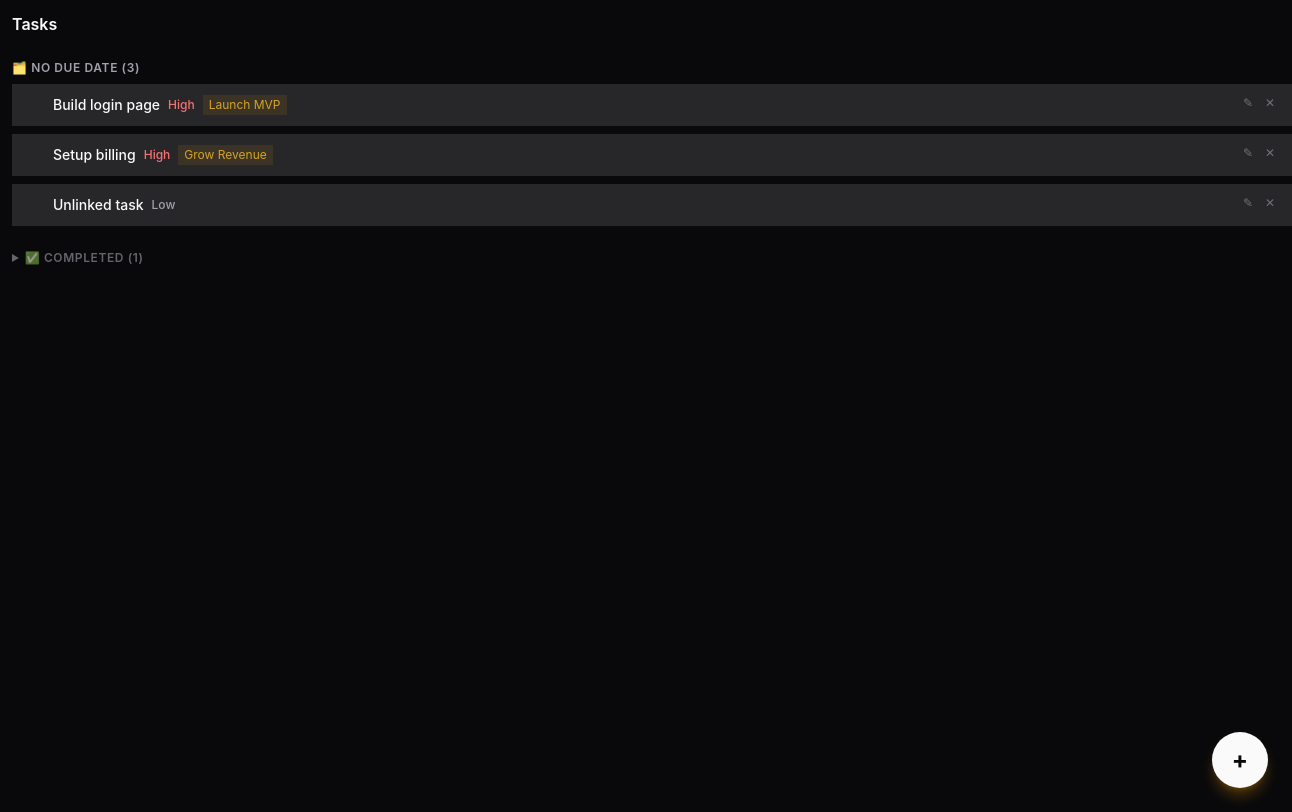
Scenario: TasksTab goal linking › shows goal selector in add task form when objectives exist
The image size is (1292, 812).
Note: Open add form via FAB
Click the button with test id "tasks-fab": [1240, 760] box [1212, 732, 1268, 788]
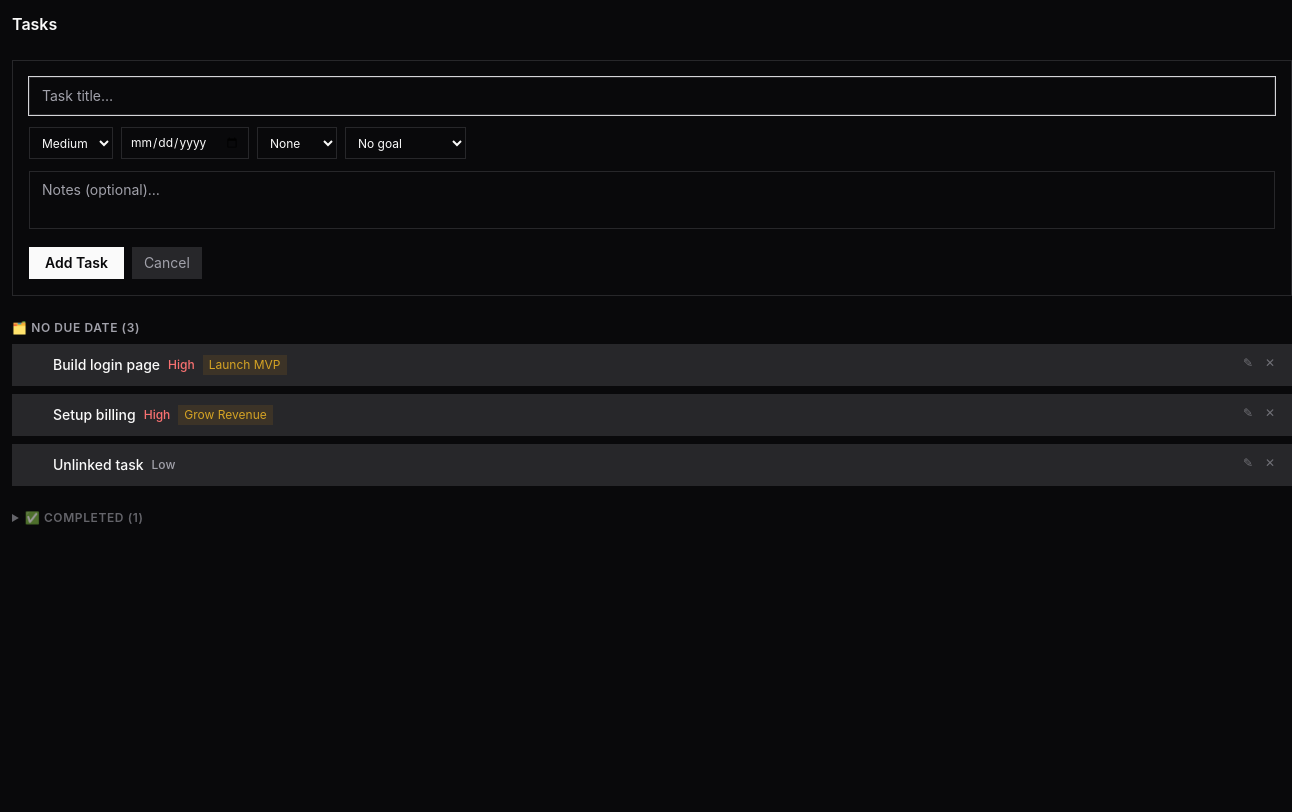
Expected: the dropdown with test id "new-task-goal-select" is shown, [345, 127, 466, 159]
